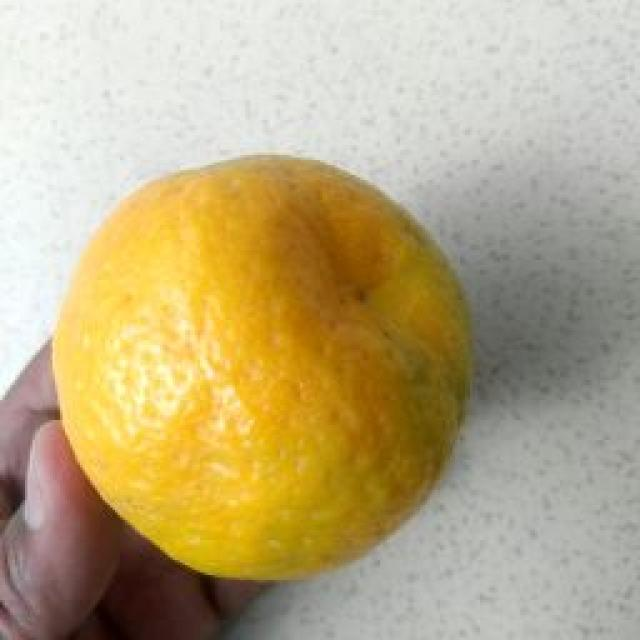Good_Orange: (48, 155, 475, 588)
